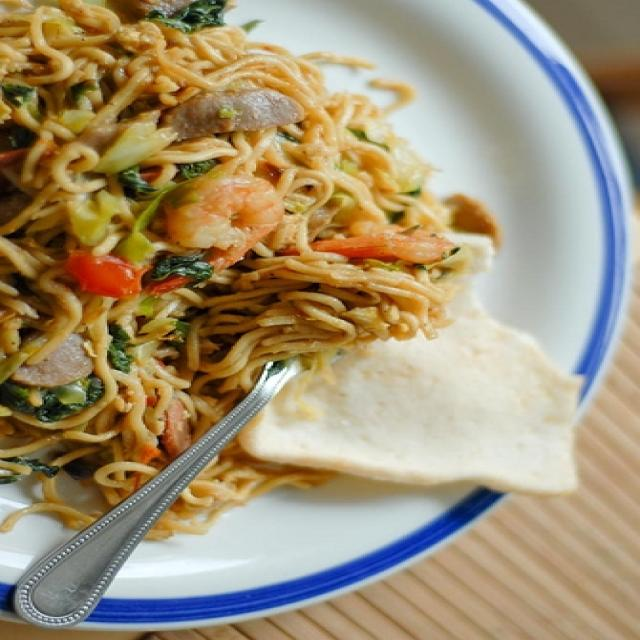面条主食: (16, 5, 612, 613)
